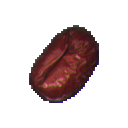ng: (22, 21, 106, 107)
